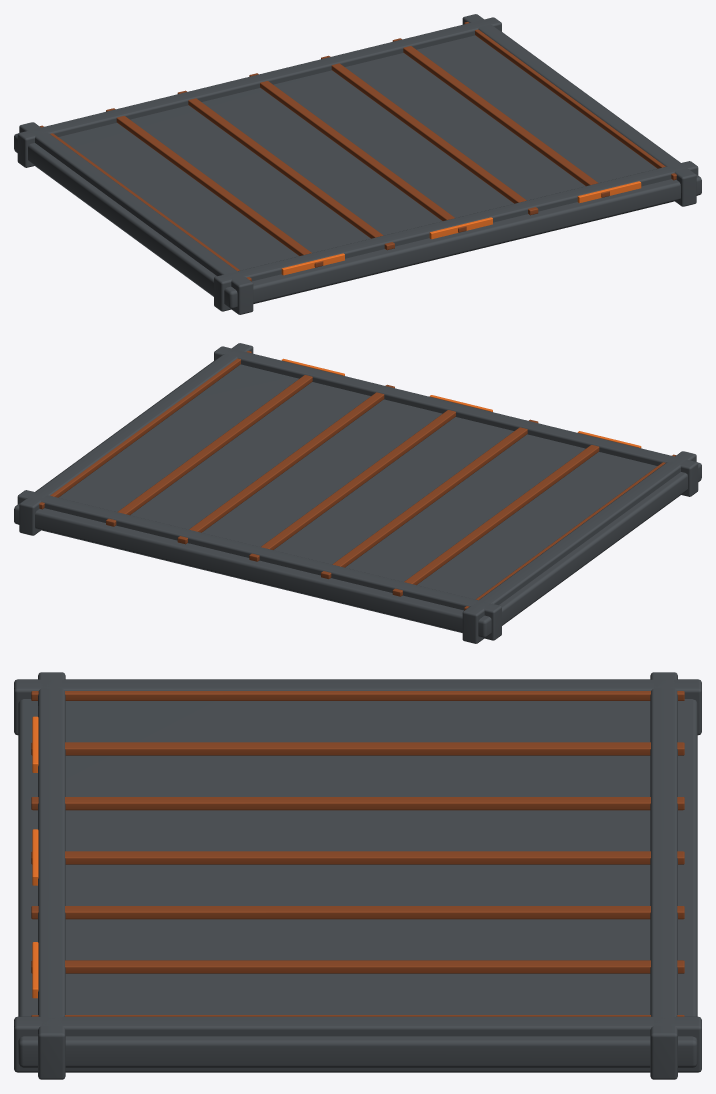
File: gantry_deck.glb
3 views of the same model, one above another, from view 1: azimuth 30°, elevation 25°; view 2: azimuth 150°, elevation 25°; view 3: azimuth 270°, elevation 25° (orthographic). The views are drawn at different scales.
Visible parts, largest first — view 1: Deck plate, Edge beam.001, Edge beam, End beam, End beam.001, Deck rib.004, Deck rib.002, Deck rib.001, Deck rib.005, Deck rib.003, Deck rib.006, Deck rib (+3 smaller); view 2: Deck plate, Edge beam.001, Edge beam, End beam, End beam.001, Deck rib.004, Deck rib.002, Deck rib.001, Deck rib.005, Deck rib.003, Deck rib.006, Deck rib; view 3: Deck plate, End beam.001, Edge beam, Edge beam.001, End beam, Deck rib.004, Deck rib.002, Deck rib.005, Deck rib.001, Deck rib.003, Deck rib, Deck rib.006.
Boxes of the visible parts, x1=… form: Deck plate: x1=14, y1=30, x2=701, y2=308; Edge beam.001: x1=17, y1=17, x2=501, y2=167; Edge beam: x1=214, y1=161, x2=698, y2=311; End beam: x1=19, y1=122, x2=253, y2=314; End beam.001: x1=462, y1=14, x2=696, y2=206; Deck rib.004: x1=321, y1=55, x2=538, y2=215; Deck rib.002: x1=177, y1=90, x2=394, y2=250; Deck rib.001: x1=106, y1=108, x2=323, y2=267; Deck rib.005: x1=392, y1=38, x2=609, y2=197; Deck rib.003: x1=249, y1=73, x2=466, y2=232; Deck rib.006: x1=464, y1=22, x2=676, y2=180; Deck rib: x1=40, y1=125, x2=251, y2=281; Deck plate: x1=14, y1=359, x2=701, y2=637; Edge beam.001: x1=17, y1=490, x2=501, y2=640; Edge beam: x1=214, y1=346, x2=698, y2=496; End beam: x1=462, y1=451, x2=696, y2=643; End beam.001: x1=19, y1=343, x2=253, y2=535; Deck rib.004: x1=177, y1=384, x2=394, y2=544; Deck rib.002: x1=321, y1=419, x2=538, y2=579; Deck rib.001: x1=392, y1=445, x2=599, y2=596; Deck rib.005: x1=106, y1=375, x2=312, y2=526; Deck rib.003: x1=249, y1=410, x2=455, y2=561; Deck rib.006: x1=39, y1=351, x2=251, y2=509; Deck rib: x1=464, y1=454, x2=675, y2=610; Deck plate: x1=18, y1=699, x2=697, y2=1067; End beam.001: x1=14, y1=1016, x2=701, y2=1072; Edge beam: x1=38, y1=672, x2=65, y2=1079; Edge beam.001: x1=650, y1=672, x2=677, y2=1079; End beam: x1=14, y1=679, x2=701, y2=735; Deck rib.004: x1=31, y1=906, x2=684, y2=919; Deck rib.002: x1=31, y1=797, x2=684, y2=810; Deck rib.005: x1=31, y1=960, x2=684, y2=973; Deck rib.001: x1=31, y1=742, x2=684, y2=755; Deck rib.003: x1=31, y1=851, x2=684, y2=864; Deck rib: x1=31, y1=691, x2=684, y2=700; Deck rib.006: x1=31, y1=1015, x2=684, y2=1016.
Bounding box in the file's own units: 5 × 0.3 × 4.
